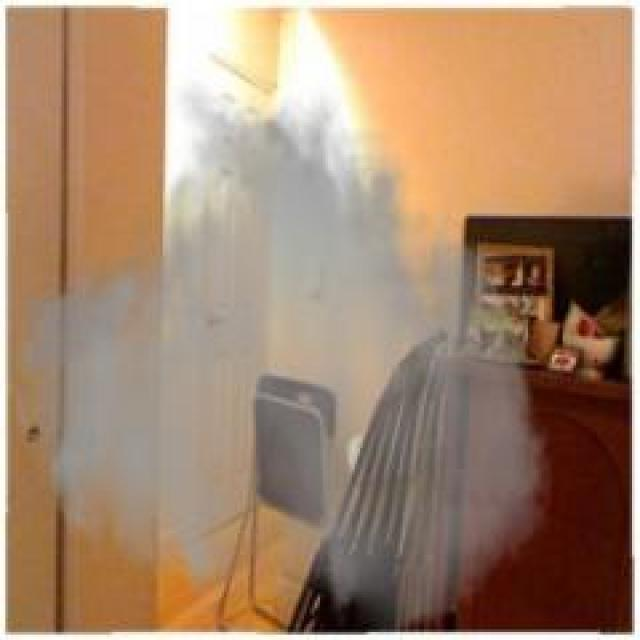smoke: (7, 78, 557, 638)
